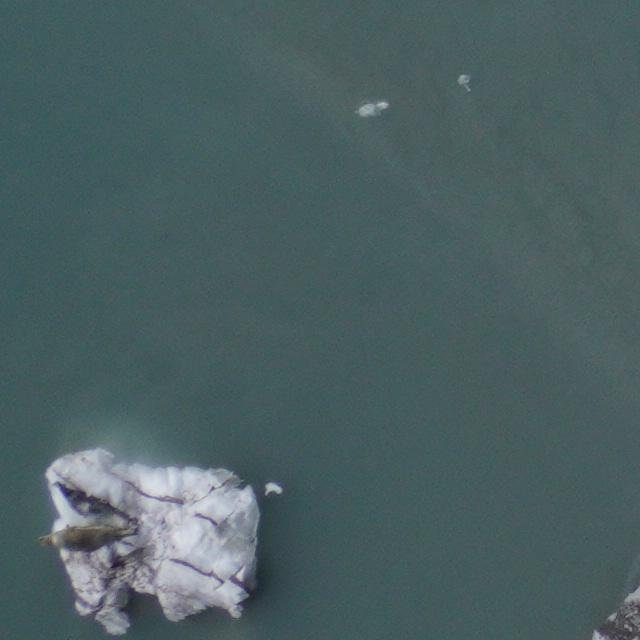seal: (36, 522, 138, 550)
